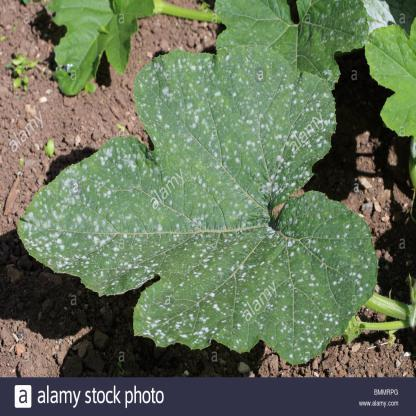Squash Powdery mildew leaf: (13, 38, 372, 368)
